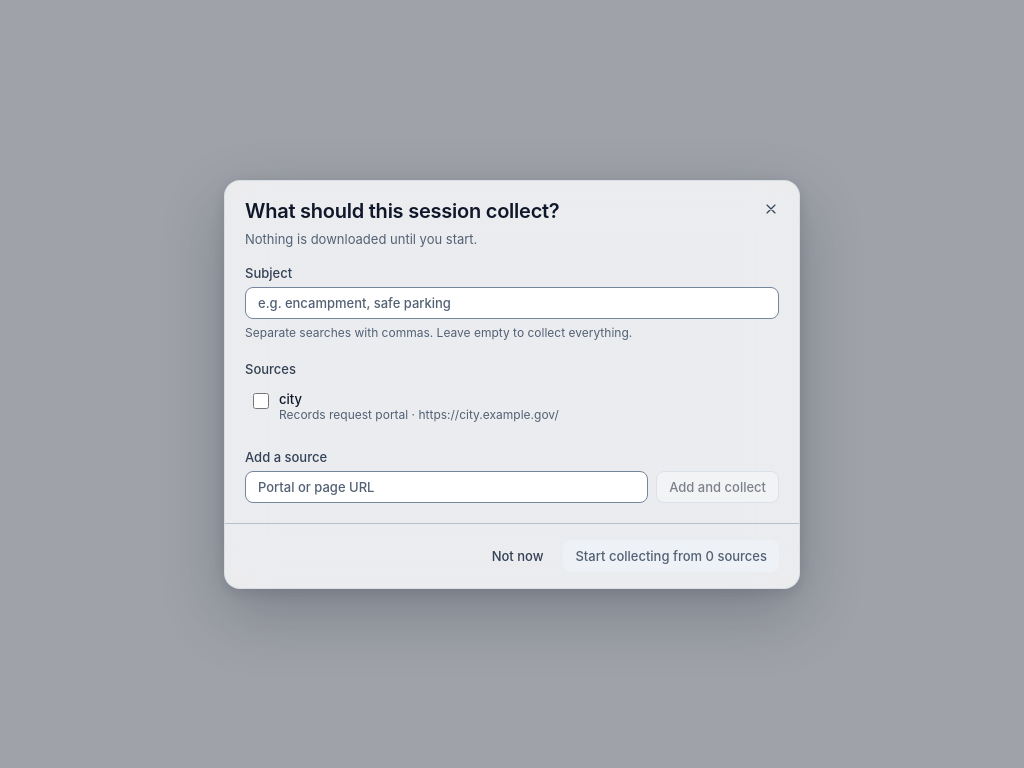
Test case: CollectionPlanDialog › starts an added source scoped to the typed subject
Expected: the heading "What should this session collect?" is shown, [245,198,560,222]
Type "encampment" into the field labelled "Subject" at (512, 302), box [245,286,779,318]
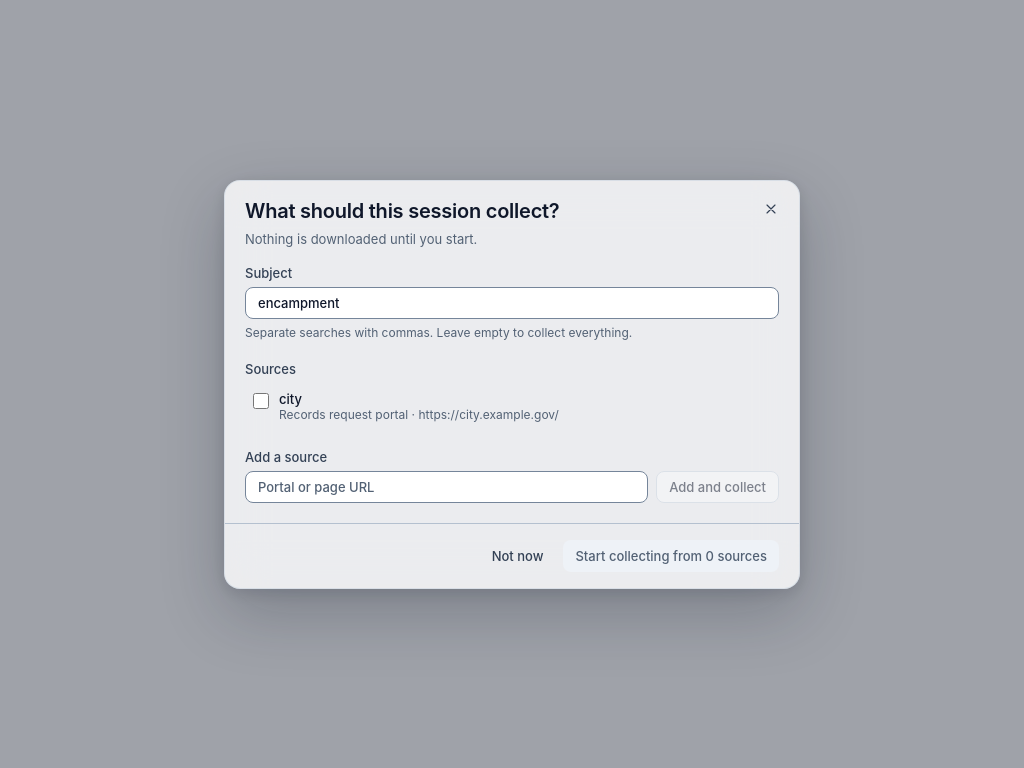
Type "https://city.nextrequest.com" into the field labelled "Add a source" at (447, 486), box [245,470,648,502]
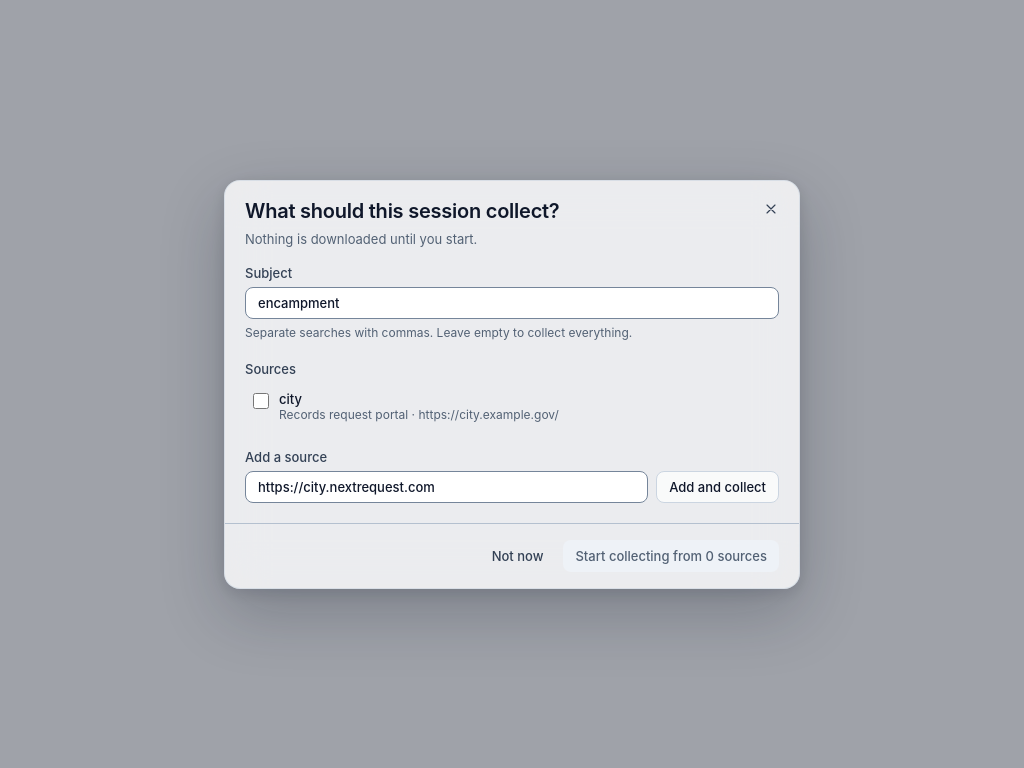
Click the button "Add and collect" at (718, 486), box [656,470,779,502]
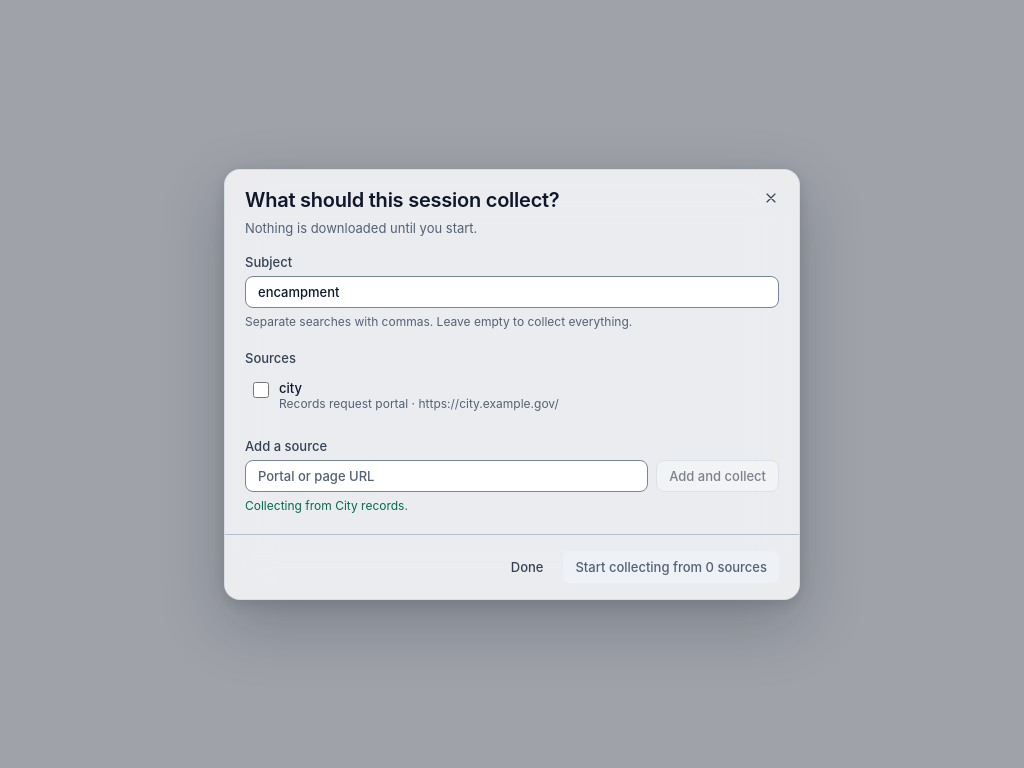
Now the text "Collecting from City records." is shown, box [245,498,408,512]
